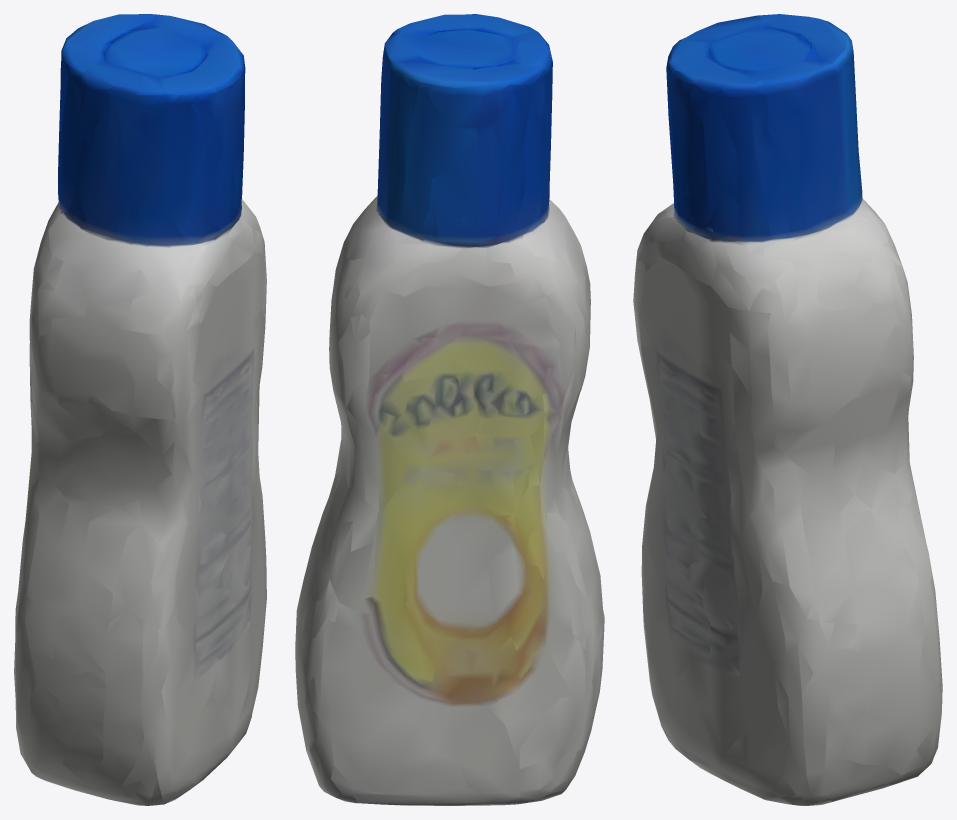
The model's file is 0001_mask_002_mayo_bottle.glb.
3 renders of one model, left to right at view 1: azimuth 30°, elevation 25°; view 2: azimuth 150°, elevation 25°; view 3: azimuth 270°, elevation 25°, orthographic.
Visible parts, largest first — view 1: mask_002_object; view 2: mask_002_object; view 3: mask_002_object.
Part boxes in pixels (x1,y1,x2,y2): mask_002_object: [14, 14, 266, 805]; mask_002_object: [295, 14, 604, 805]; mask_002_object: [633, 14, 942, 805].
Bounding box in the file's own units: 0.0824 × 0.2168 × 0.085.
